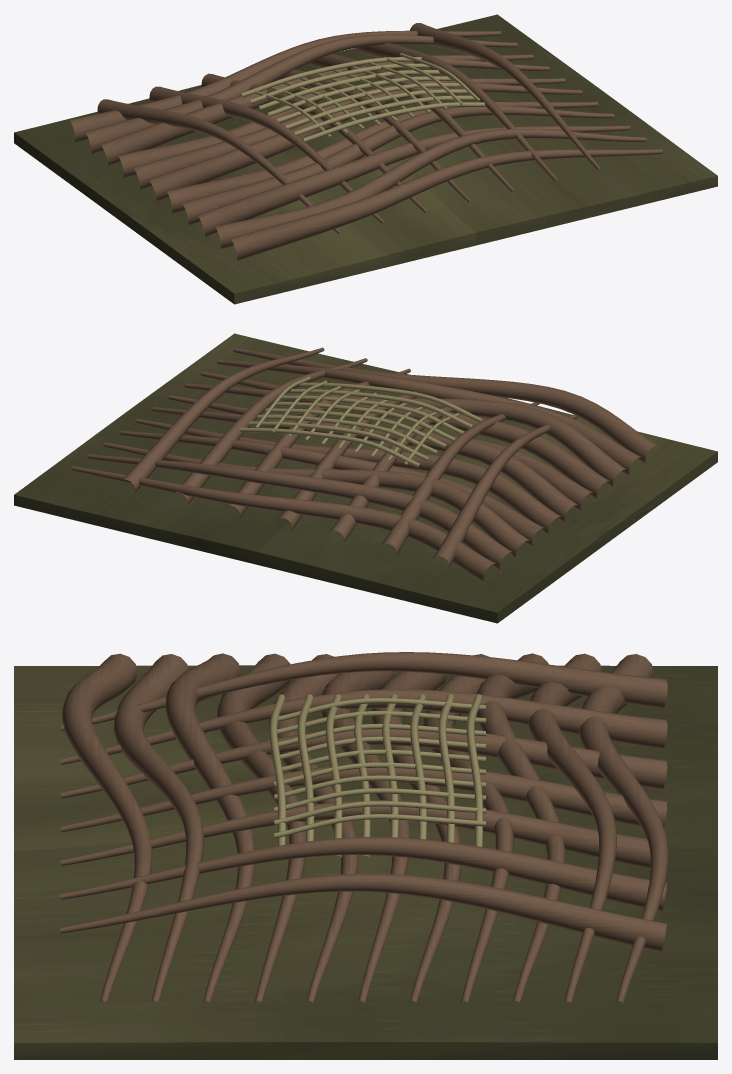
The model's file is bellroot-fen-floodward-marches-flood-debris-jam-7c36b196.glb.
3 views of the same model, one above another, from view 1: azimuth 30°, elevation 25°; view 2: azimuth 150°, elevation 25°; view 3: azimuth 270°, elevation 25° (orthographic). The views are drawn at different scales.
Visible parts, largest first — view 1: flood-debris-jam; view 2: flood-debris-jam; view 3: flood-debris-jam.
Part boxes in pixels (x1,y1,x2,y2): flood-debris-jam: (14, 14, 717, 304); flood-debris-jam: (14, 333, 717, 623); flood-debris-jam: (14, 652, 717, 1059).
Bounding box in the file's own units: 3.8 × 0.5672 × 3.
4 materials, 4 textured.
